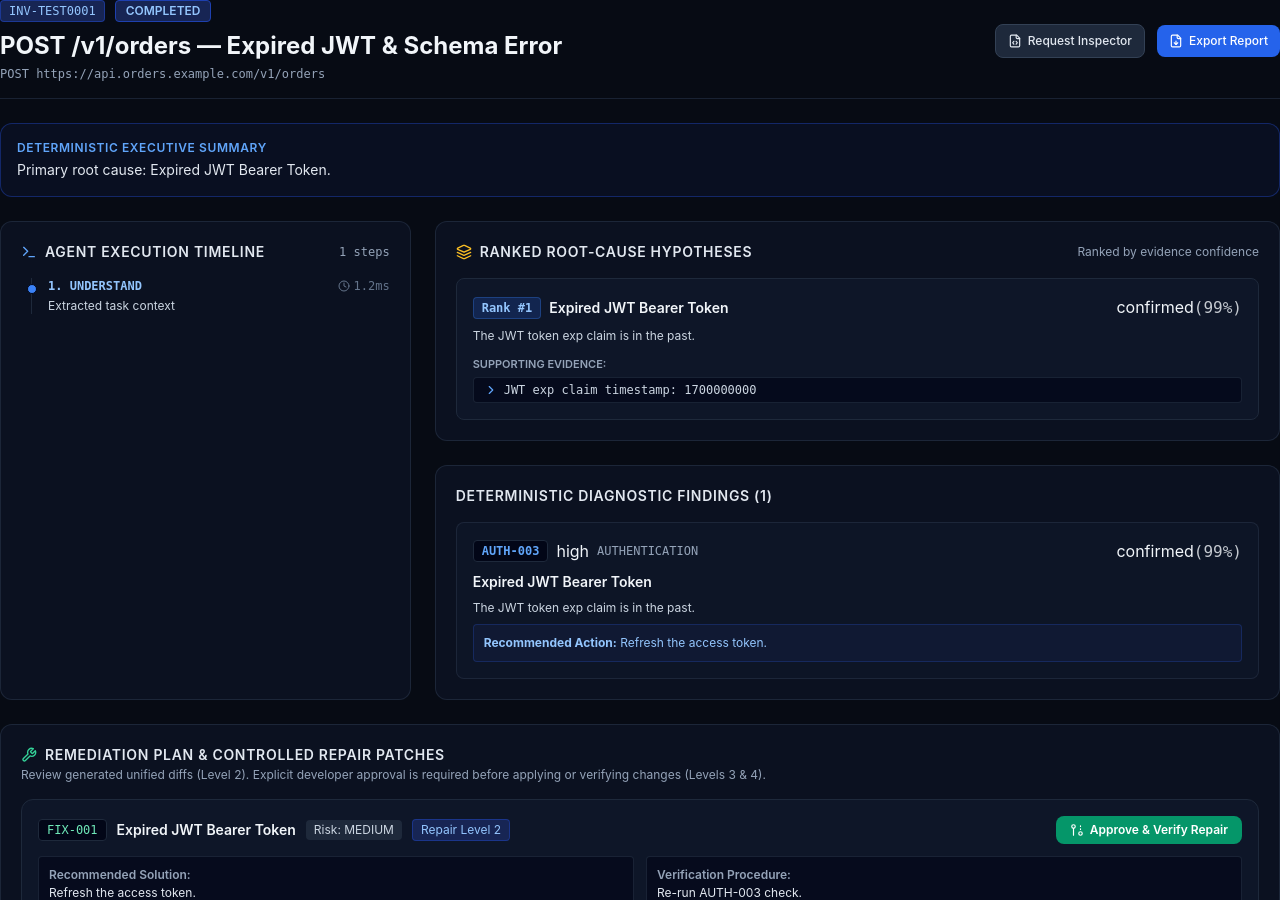
Test: API Detective Web Dashboard Suite › renders InvestigationWorkspacePage and requires confirmation dialog for repair approval
Later steps or results of the test are not shown.
Expected: the text "Ranked Root-Cause Hypotheses" is shown, 480,242 -> 752,262
Expected: the text "AUTH-003" is shown, 473,540 -> 548,562
Click the button "Approve & Verify Repair" at (1149,830), box 1056,816 -> 1242,844
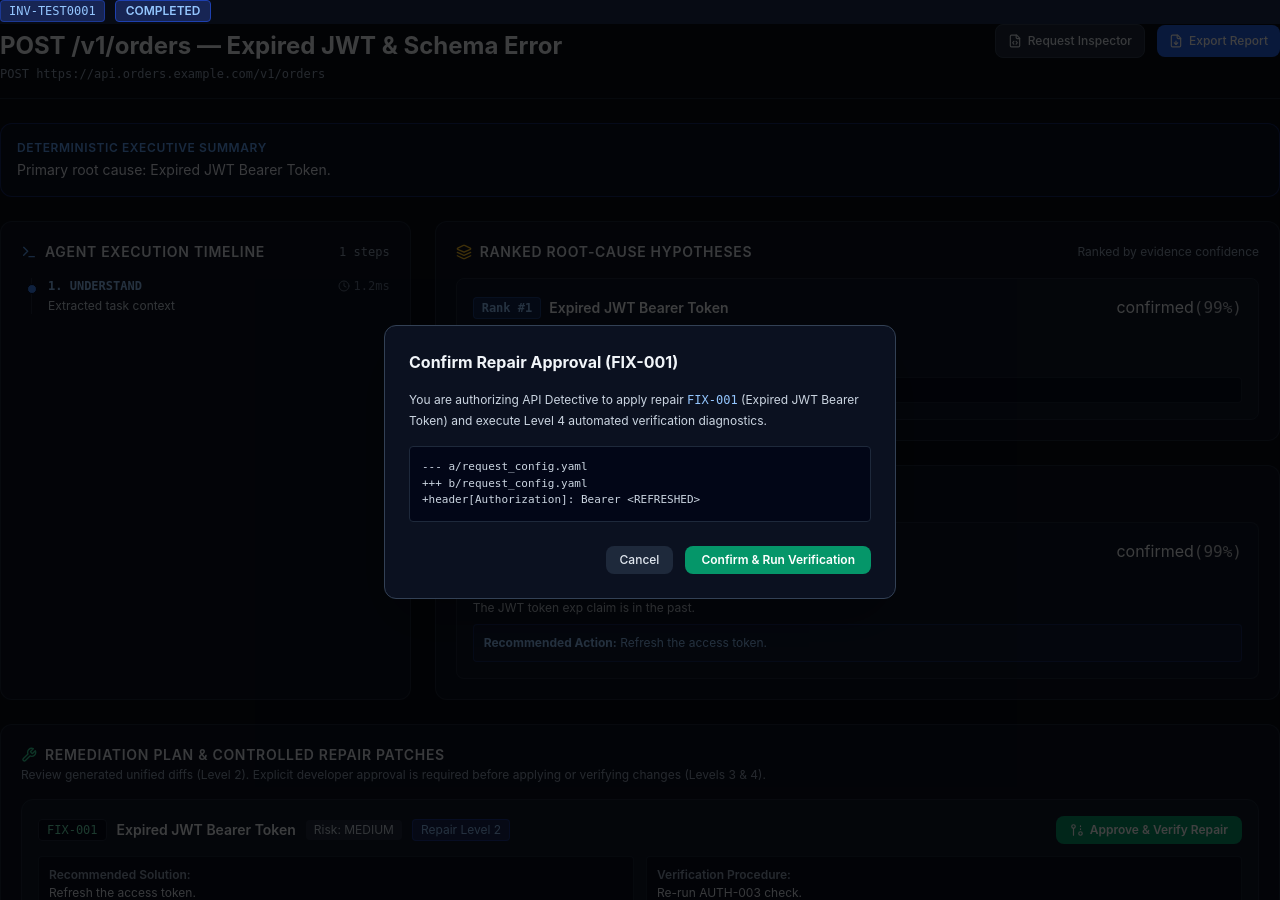
Expected: the heading "Confirm Repair Approval (FIX-001)" is shown, 409,352 -> 678,372
